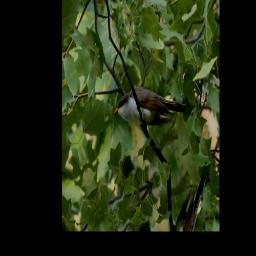Cuckoo: (112, 42, 193, 167)
